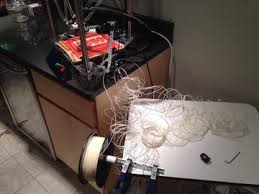fail: (92, 58, 252, 164)
